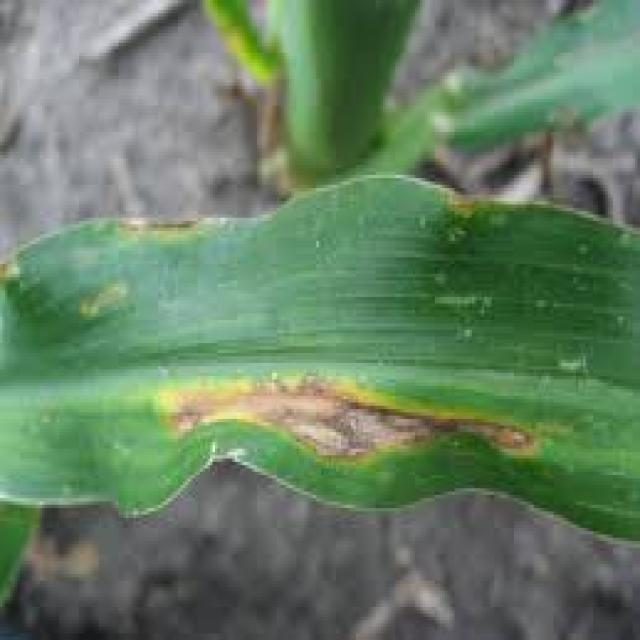Corn_Leaf_Blight: (27, 175, 640, 541)
